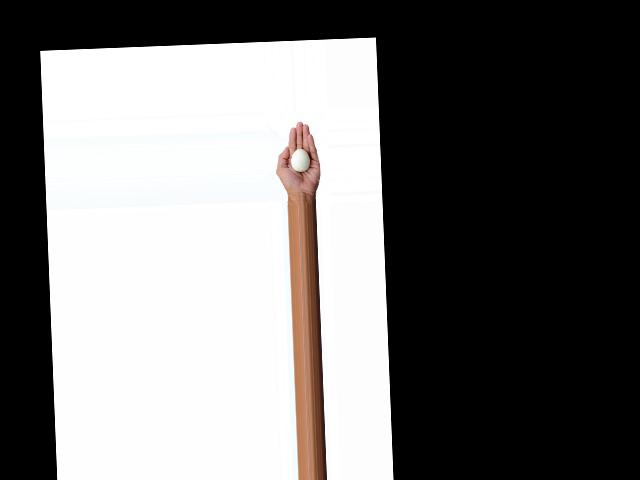egg: (291, 147, 310, 172)
